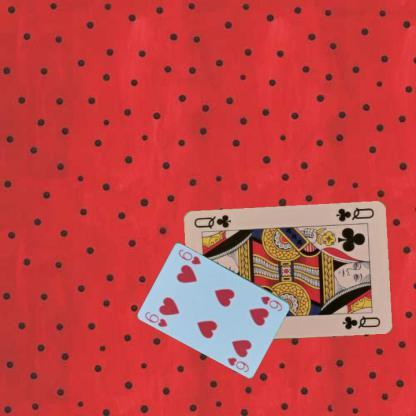6h: (142, 309, 168, 328), (258, 294, 284, 312)
Qc: (333, 205, 375, 223)
